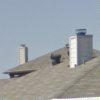Chimney: (61, 20, 91, 66)
